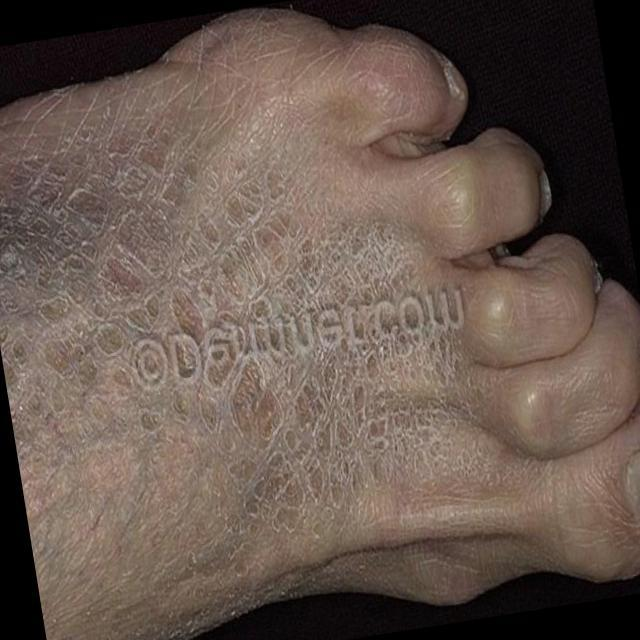Eczema: (2, 85, 484, 563)
